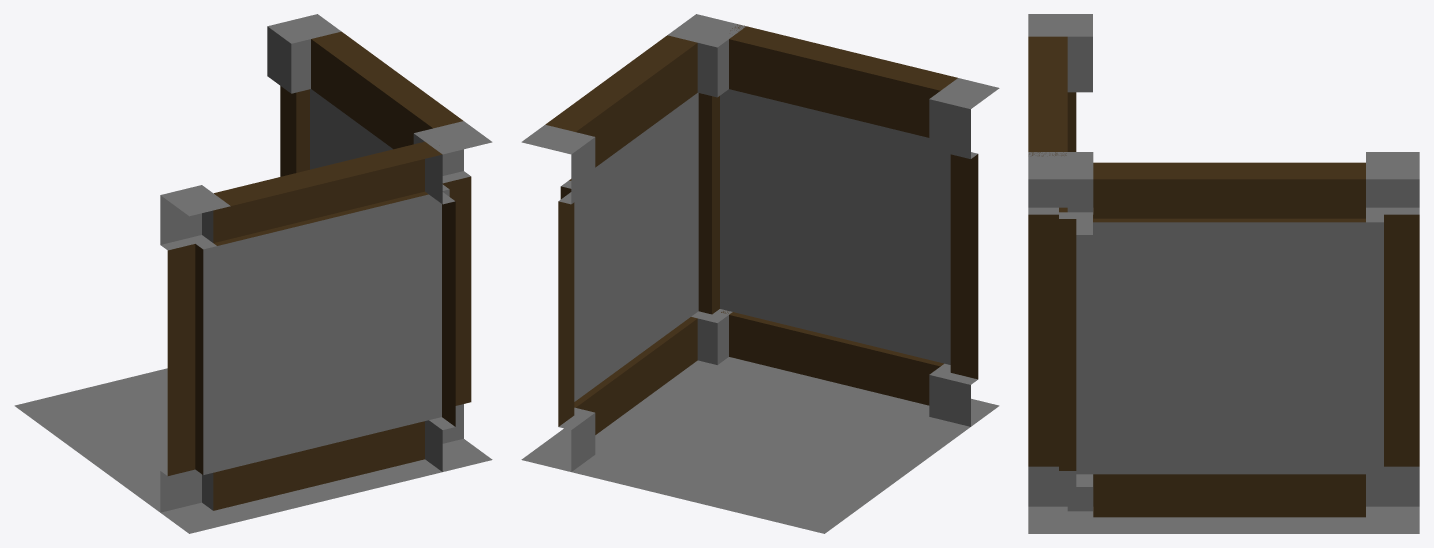
Rendered from DungeonWalls.fbx.
3 views of the same model, side by side, from view 1: azimuth 30°, elevation 25°; view 2: azimuth 150°, elevation 25°; view 3: azimuth 270°, elevation 25° (orthographic). The views are drawn at different scales.
Visible parts, largest first — view 1: Plane.001, Plane.000, Plane.003, Plane.015; view 2: Plane.001, Plane.000, Plane.003; view 3: Plane.001, Plane.000, Plane.003, Plane.015.
Boxes of the visible parts, x1=… form: Plane.001: x1=151, y1=14, x2=492, y2=512; Plane.000: x1=213, y1=122, x2=491, y2=509; Plane.003: x1=14, y1=136, x2=471, y2=532; Plane.015: x1=172, y1=438, x2=492, y2=533; Plane.001: x1=521, y1=14, x2=999, y2=471; Plane.000: x1=607, y1=14, x2=968, y2=462; Plane.003: x1=521, y1=39, x2=999, y2=533; Plane.001: x1=1028, y1=14, x2=1419, y2=517; Plane.000: x1=1028, y1=36, x2=1419, y2=533; Plane.003: x1=1028, y1=179, x2=1419, y2=533; Plane.015: x1=1028, y1=506, x2=1412, y2=533.
Bounding box in the file's own units: 200 × 200 × 200.
